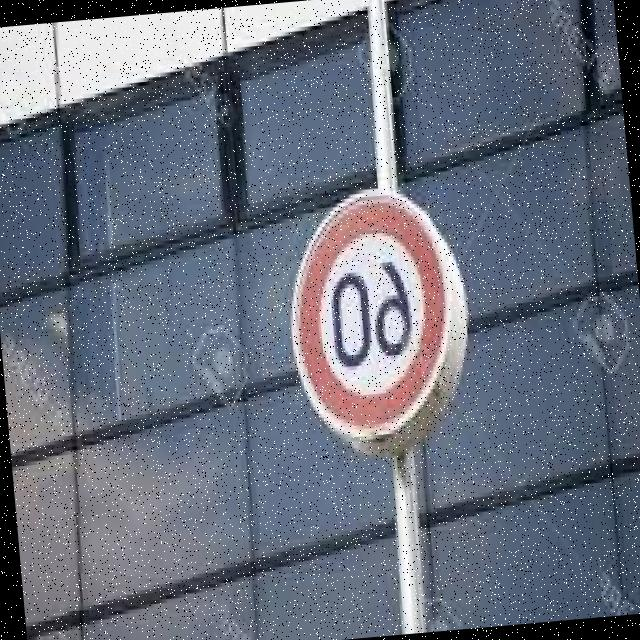speed_limit_60: (272, 180, 466, 453)
